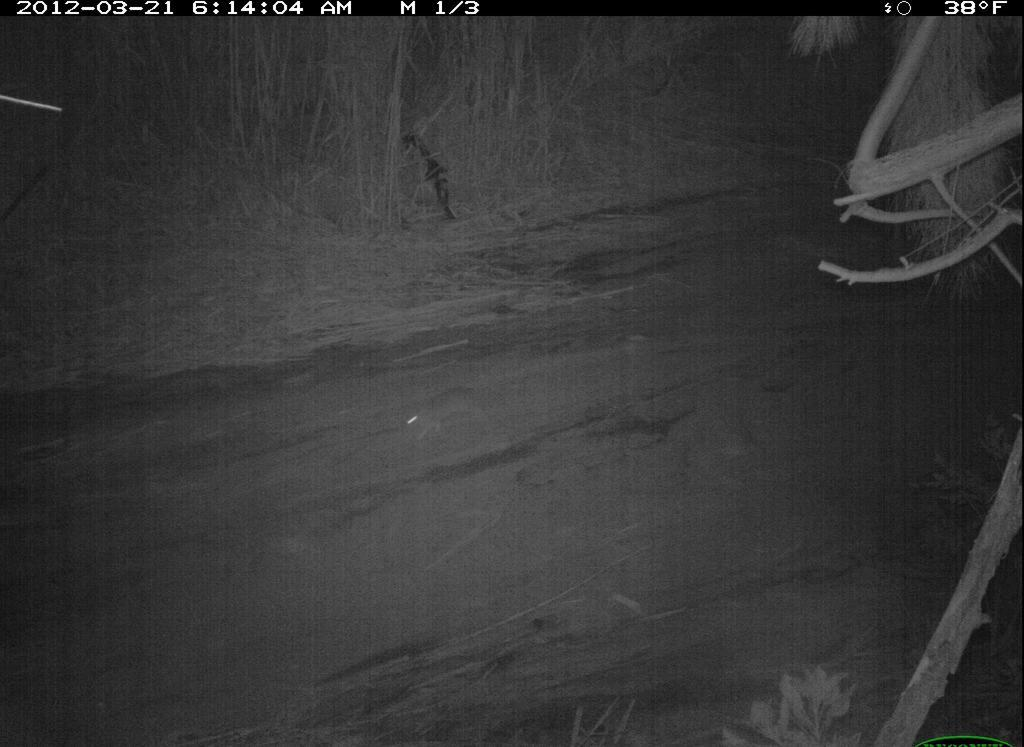rabbit: (382, 377, 498, 452)
